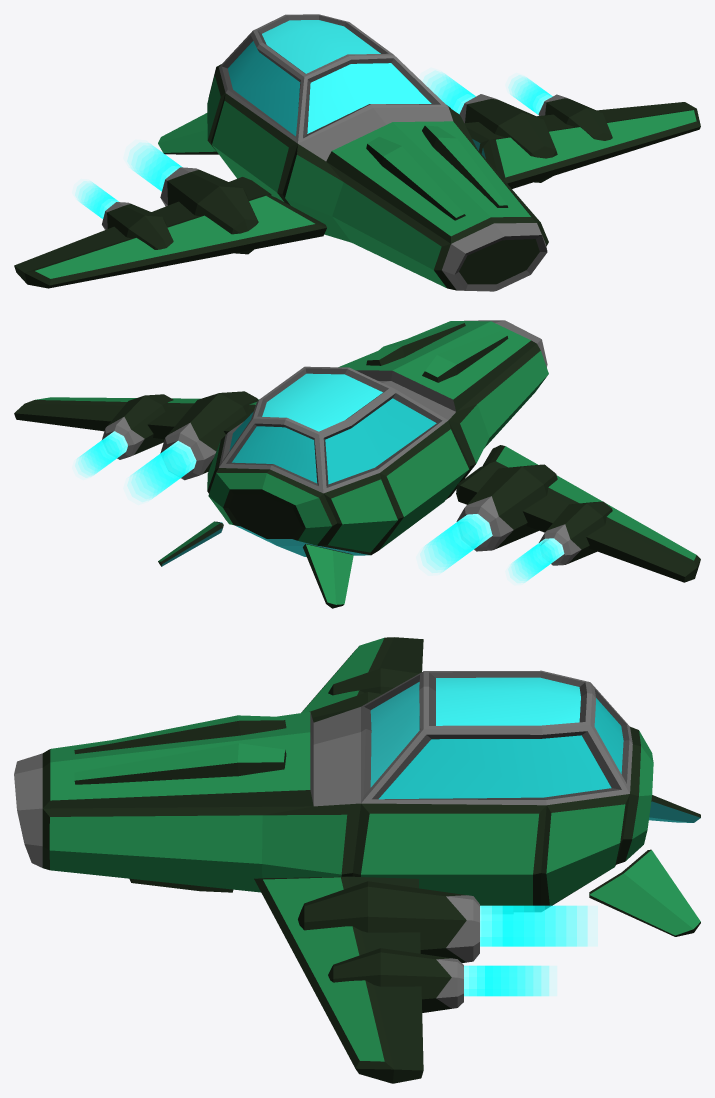
Rendered from low-poly_spaceship_2.glb.
The picture shows the model from 3 angles, top to bottom: view 1: azimuth 30°, elevation 25°; view 2: azimuth 150°, elevation 25°; view 3: azimuth 270°, elevation 25°; orthographic projection. The views are drawn at different scales.
Visible parts, largest first — view 1: Cube; view 2: Cube; view 3: Cube.
Part boxes in pixels (<box>): Cube: <box>14,14,700,291</box>; Cube: <box>14,320,700,608</box>; Cube: <box>14,637,700,1083</box>.
Bounding box in the file's own units: 898 × 200 × 603.
Materials: 1 (1 with a texture image).
